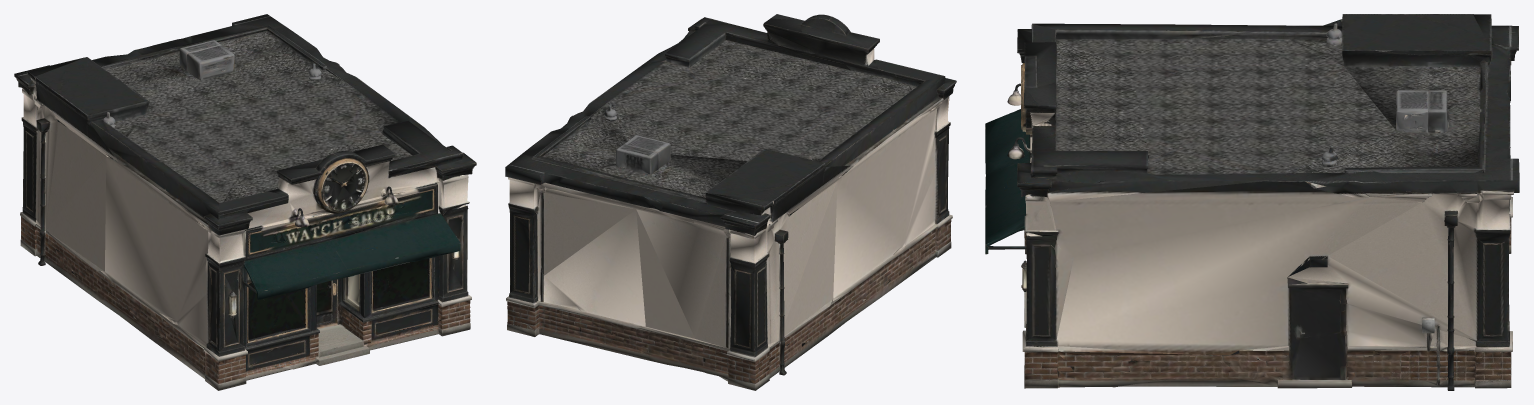
File: watch_shop.glb
The picture shows the model from 3 angles, left to right: view 1: azimuth 30°, elevation 25°; view 2: azimuth 150°, elevation 25°; view 3: azimuth 270°, elevation 25°; orthographic projection. The views are drawn at different scales.
Visible parts, largest first — view 1: output_unwrapped; view 2: output_unwrapped; view 3: output_unwrapped.
Part boxes in pixels (<box>): output_unwrapped: <box>14,14,476,390</box>; output_unwrapped: <box>505,14,956,390</box>; output_unwrapped: <box>985,14,1519,390</box>.
Size of the model in its own units: 9.39 by 7 by 13.42.
Materials: 1 (1 with a texture image).
